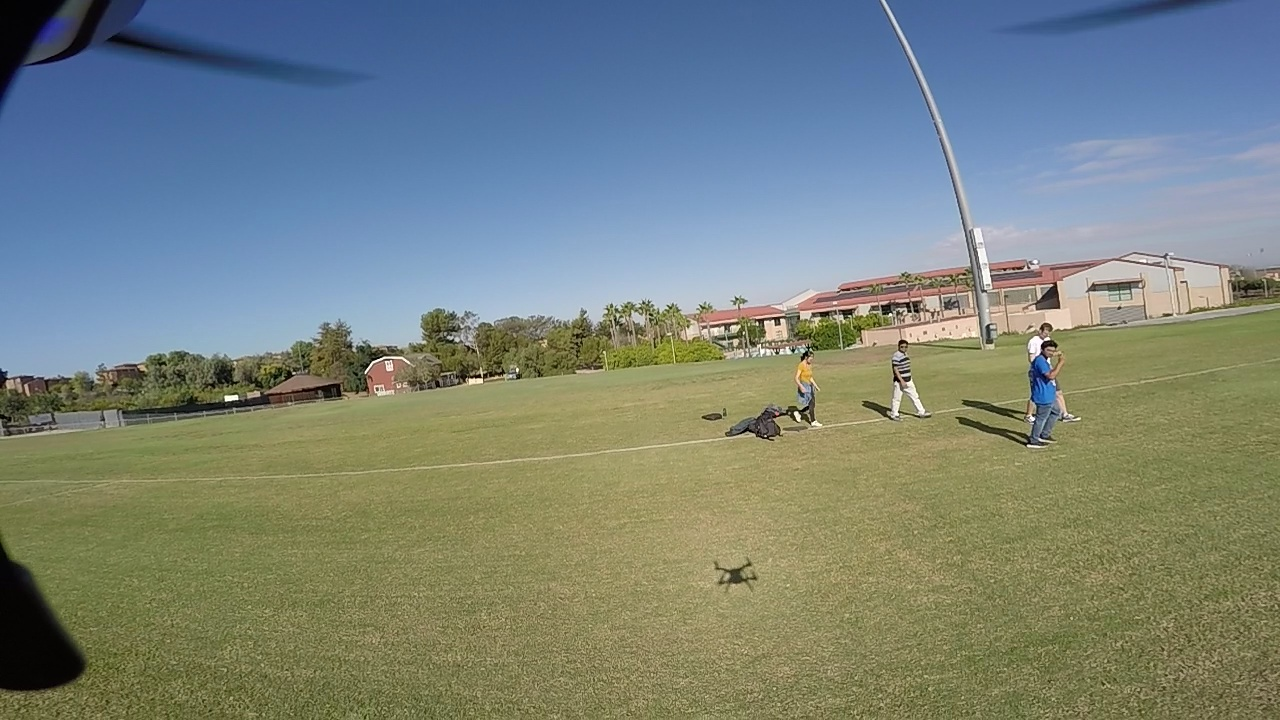person: (1022, 317, 1070, 445), (1032, 328, 1076, 433), (885, 328, 927, 413), (789, 343, 818, 422)
